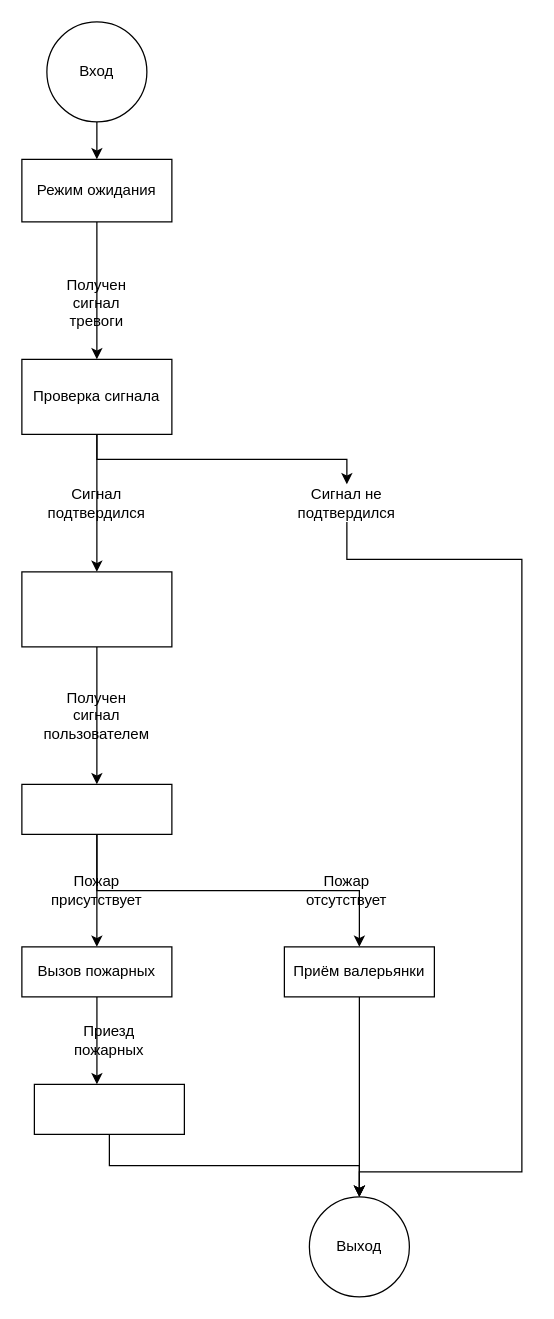
This 554x1319 diagram has some shape labels left out. Each missing label, with the centre of its shape:
Отправка сообщений пользователям системы: the point at 96,609
Реакция пользователя: the point at 96,808
Тушение пожара: the point at 108,1108
